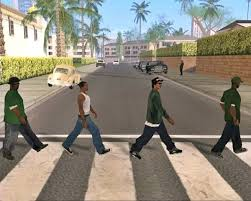car: (46, 62, 82, 92), (147, 59, 168, 77)
person: (3, 76, 40, 157), (141, 78, 173, 155), (72, 82, 104, 155), (225, 78, 245, 155)
